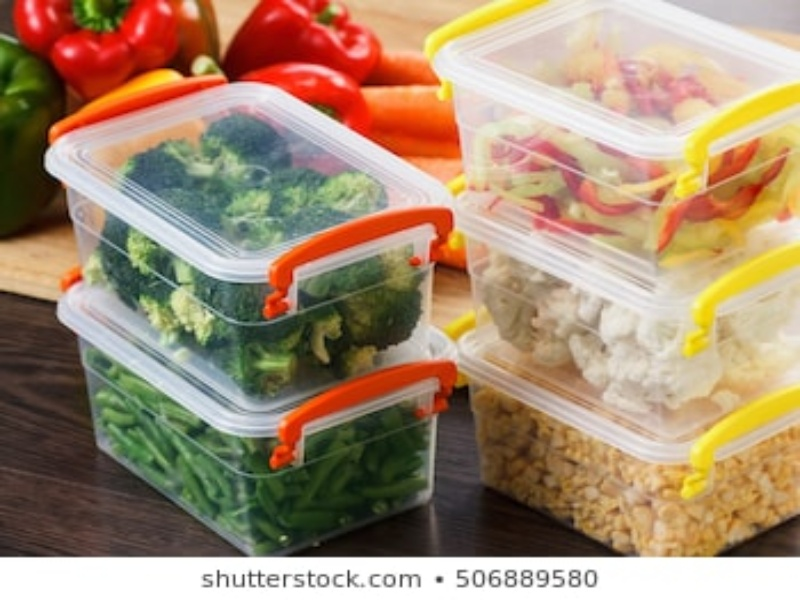plastic-container: (43, 61, 452, 370), (50, 264, 452, 553), (431, 2, 798, 265), (448, 307, 798, 555), (450, 169, 800, 408)
